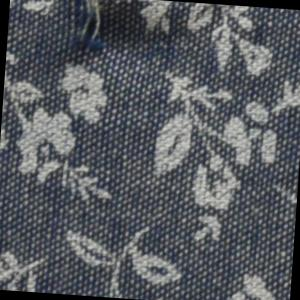Damage: (51, 1, 135, 76)
